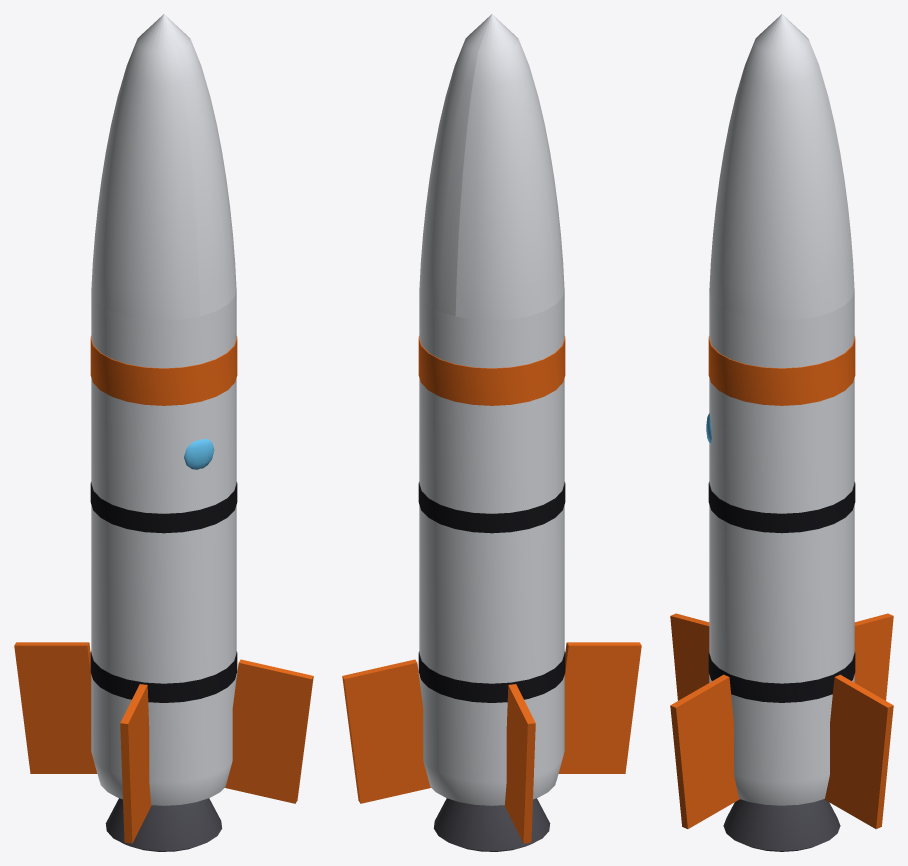
The model's file is cohete.obj.
The picture shows the model from 3 angles, left to right: view 1: azimuth 30°, elevation 25°; view 2: azimuth 150°, elevation 25°; view 3: azimuth 270°, elevation 25°; orthographic projection.
Visible parts, largest first — view 1: Cuerpo, Cofia_Izquierda, Aletas, Cofia_Derecha, Tobera; view 2: Cuerpo, Cofia_Izquierda, Aletas, Cofia_Derecha, Tobera; view 3: Cuerpo, Cofia_Derecha, Aletas, Tobera.
Boxes of the visible parts, x1,y1,x2,y2 form: Cuerpo: [90, 290, 237, 805]; Cofia_Izquierda: [91, 14, 200, 320]; Aletas: [14, 642, 313, 843]; Cofia_Derecha: [164, 14, 236, 316]; Tobera: [105, 798, 222, 851]; Cuerpo: [418, 290, 565, 805]; Cofia_Izquierda: [455, 14, 564, 320]; Aletas: [342, 642, 641, 843]; Cofia_Derecha: [419, 14, 491, 316]; Tobera: [433, 798, 550, 851]; Cuerpo: [706, 290, 855, 805]; Cofia_Derecha: [709, 14, 854, 320]; Aletas: [670, 613, 893, 828]; Tobera: [723, 799, 840, 851].
Bounding box in the file's own units: 1.91 × 7.7 × 1.91.
